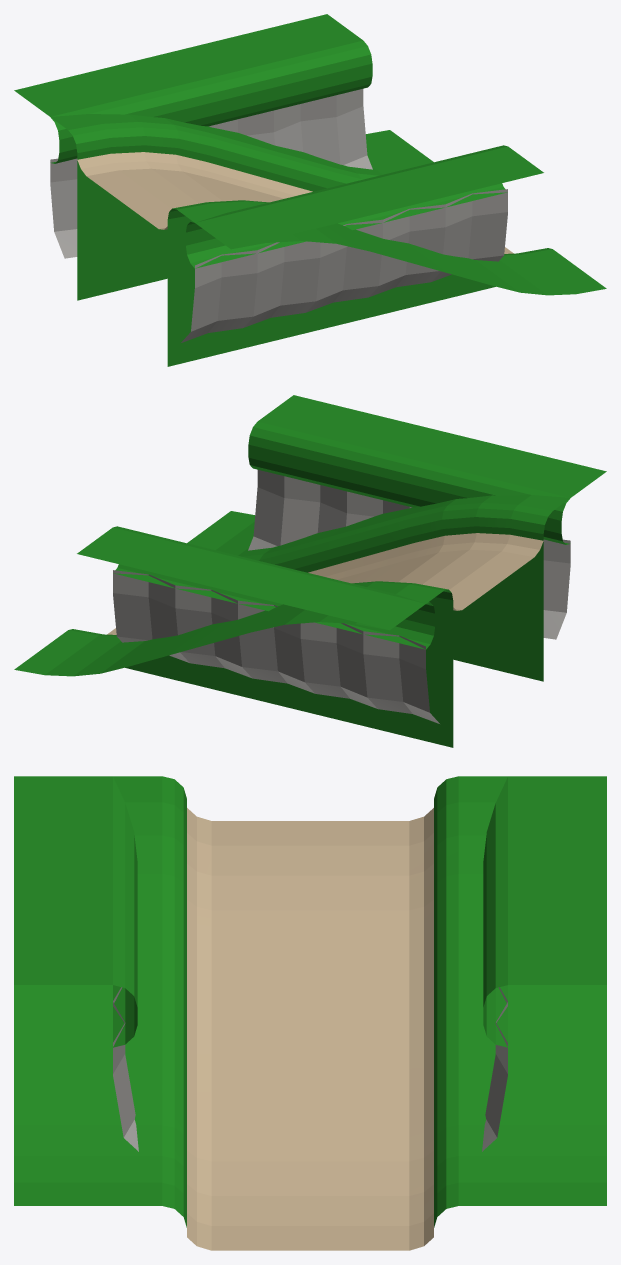
Rendered from Track_Cliff_Incline_Standard_2_Tall_Double.obj.
3 views of the same model, one above another, from view 1: azimuth 30°, elevation 25°; view 2: azimuth 150°, elevation 25°; view 3: azimuth 270°, elevation 25° (orthographic). The views are drawn at different scales.
Visible parts, largest first — view 1: Grass, Rock, Dirt; view 2: Grass, Rock, Dirt; view 3: Grass, Dirt, Rock.
Boxes of the visible parts, x1,y1,x2,y2 form: Grass: (14, 14, 606, 366); Rock: (50, 89, 507, 342); Dirt: (77, 152, 513, 253); Grass: (14, 395, 606, 747); Rock: (113, 470, 570, 723); Dirt: (107, 533, 543, 634); Grass: (14, 776, 606, 1227); Dirt: (187, 808, 433, 1250); Rock: (113, 987, 507, 1151).
Size of the model in its own units: 6 by 2.5 by 6.
